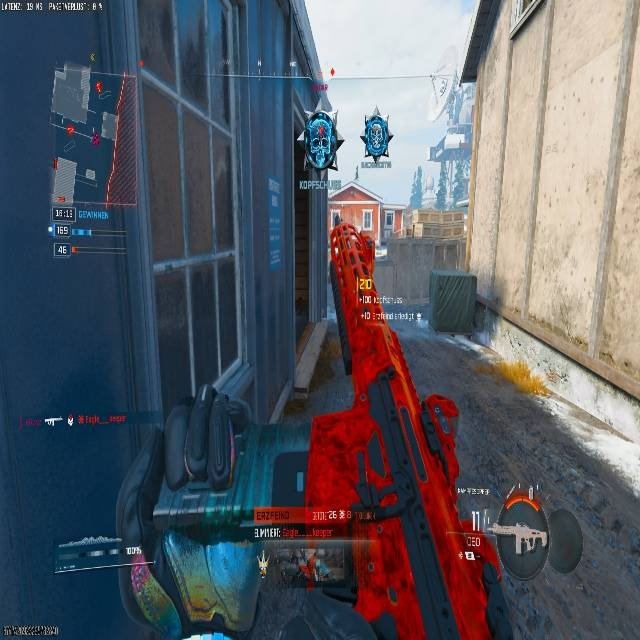player: (361, 111, 391, 164)
